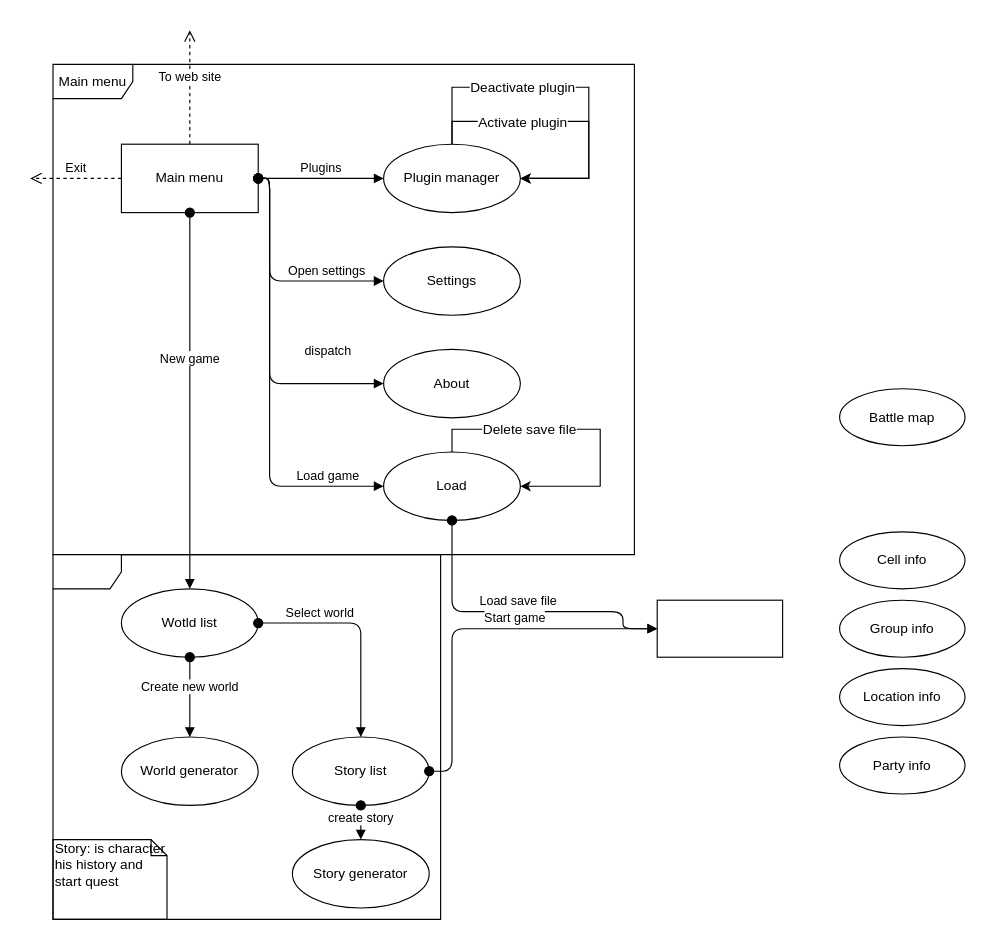
This 985x939 diagram has some shape labels left out. The shapes that lost their labels are listed below. From the top down, each one's centre as x and y in pixels, then its label:
the point at 719,628: World map
the point at 246,736: New game menu
